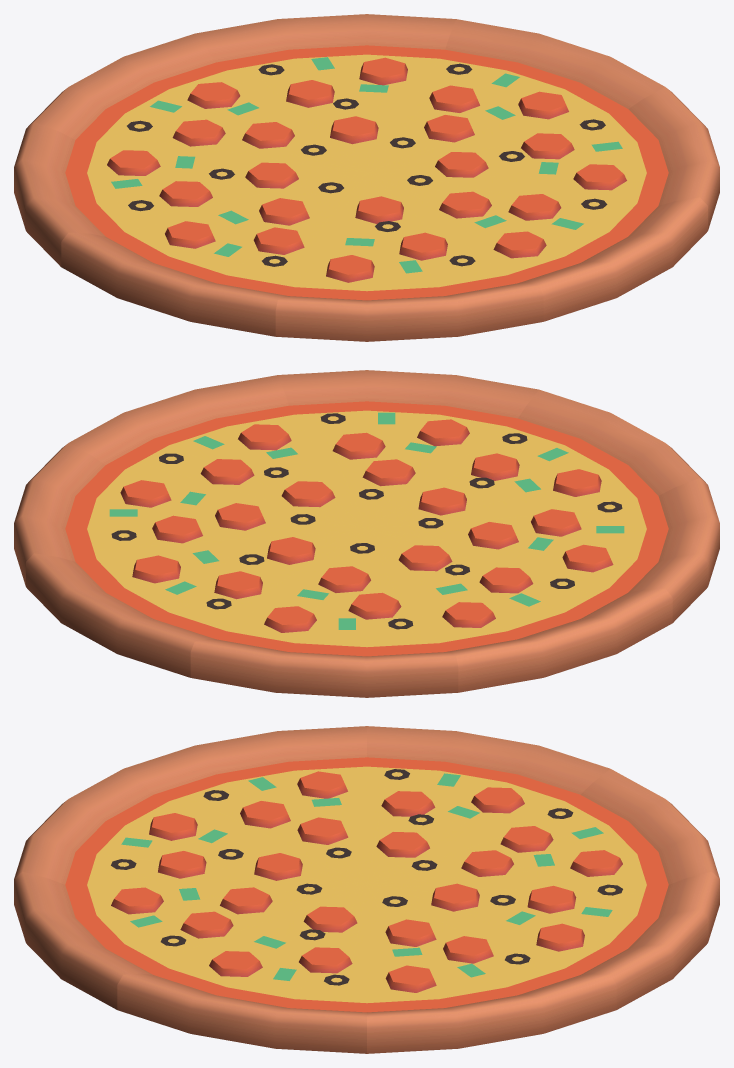
File: pizza.glb
3 views of the same model, one above another, from view 1: azimuth 30°, elevation 25°; view 2: azimuth 150°, elevation 25°; view 3: azimuth 270°, elevation 25° (orthographic).
Parts seen in each view (by area): view 1: slice7, slice8, slice6, slice3, slice4, slice1, slice2, slice5; view 2: slice2, slice1, slice3, slice6, slice5, slice8, slice7, slice4; view 3: slice4, slice5, slice6, slice3, slice8, slice1, slice2, slice7.
Part boxes in pixels (x1,y1,x2,y2): slice7: (275, 173, 543, 341); slice8: (61, 173, 366, 336); slice6: (367, 173, 707, 321); slice3: (195, 14, 455, 172); slice4: (367, 19, 664, 172); slice1: (14, 122, 365, 266); slice2: (28, 33, 366, 172); slice5: (367, 87, 719, 230); slice2: (190, 529, 458, 697); slice1: (367, 529, 672, 692); slice3: (26, 529, 366, 677); slice6: (278, 370, 538, 528); slice5: (69, 375, 366, 528); slice8: (368, 478, 719, 622); slice7: (367, 389, 705, 528); slice4: (14, 443, 366, 586); slice4: (367, 885, 616, 1053); slice5: (117, 885, 366, 1053); slice6: (14, 871, 365, 1009); slice3: (368, 871, 719, 1009); slice8: (124, 726, 366, 884); slice1: (367, 726, 609, 884); slice2: (367, 769, 719, 884); slice7: (14, 769, 366, 884).
Size of the model in its own units: 0.8418 by 0.0435 by 0.8418.
1 material, 1 textured.
